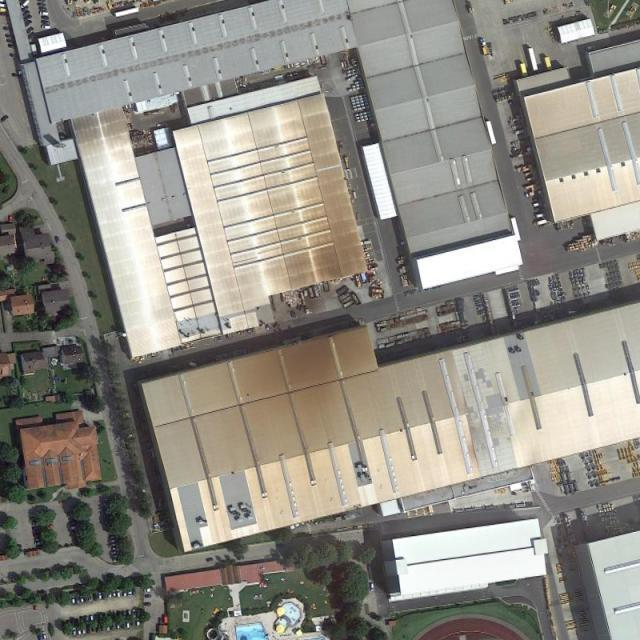vehicle: (479, 37, 490, 56), (22, 14, 33, 23), (19, 1, 31, 9), (534, 220, 546, 227), (24, 19, 33, 28), (21, 5, 29, 14), (11, 73, 24, 78), (26, 26, 34, 34), (22, 10, 30, 18), (1, 115, 9, 123), (54, 235, 61, 244), (72, 626, 77, 638), (39, 11, 49, 17), (38, 6, 48, 12), (8, 44, 18, 50), (144, 587, 154, 593), (3, 26, 14, 31), (41, 20, 50, 26), (77, 626, 82, 636), (370, 583, 375, 593), (6, 39, 16, 44), (5, 34, 15, 39), (132, 587, 137, 597), (85, 615, 90, 624), (367, 564, 372, 573), (10, 53, 19, 58), (38, 2, 47, 7), (127, 610, 132, 618), (37, 632, 42, 640), (132, 609, 136, 618), (143, 602, 152, 606), (41, 16, 50, 20), (76, 595, 80, 604), (117, 589, 121, 598), (86, 625, 90, 634), (82, 625, 86, 634), (126, 621, 130, 629), (137, 610, 141, 618), (206, 558, 214, 562), (42, 631, 46, 639), (80, 595, 84, 603), (93, 593, 97, 601), (98, 592, 102, 600), (108, 590, 112, 598), (112, 590, 116, 598), (128, 589, 132, 597), (122, 612, 126, 619), (42, 26, 51, 29), (137, 618, 140, 626), (145, 594, 151, 598), (72, 596, 75, 604), (9, 217, 13, 223)
